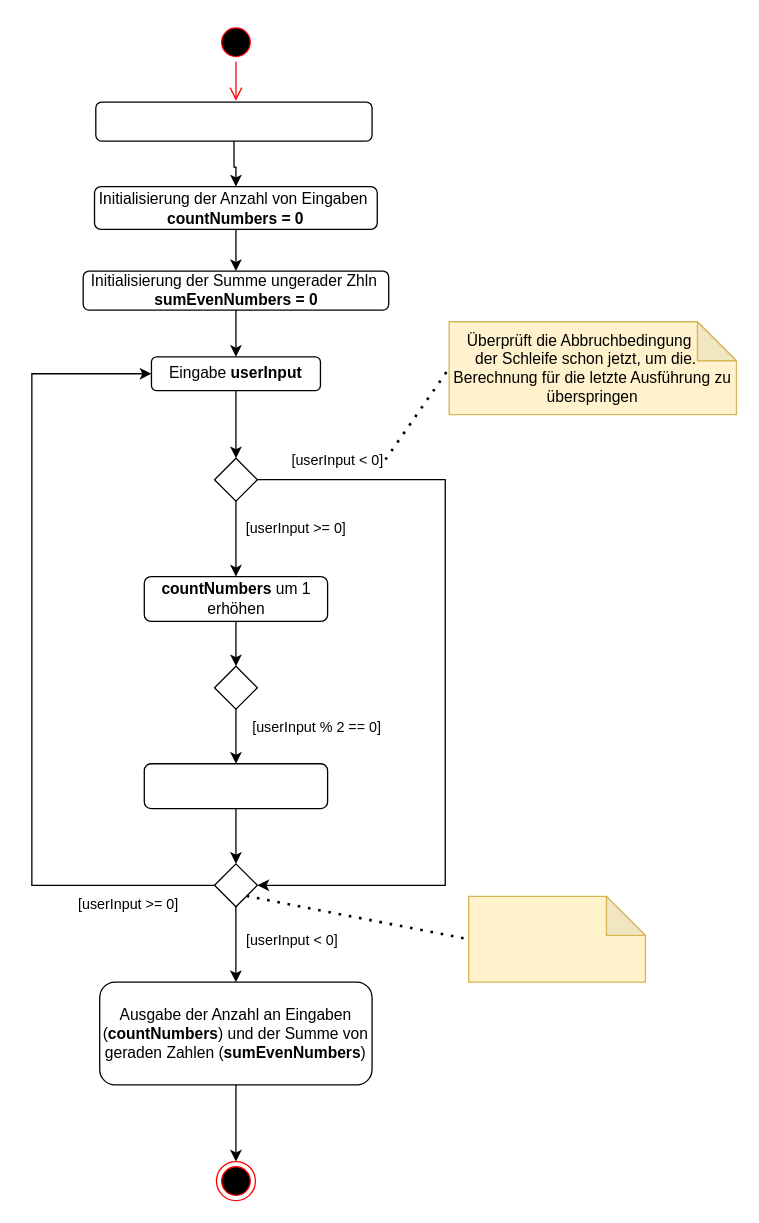
The diagram is 759 pixels wide and 1223 high, and some of its shapes have lost their labels. The shapes that lost their labels are listed below. From the top down, each one's box as (x1, y1, x2, y2) in pixels, then its label:
(95, 101, 372, 141): Initialisierung der Benutzereingabe userInput = 0
(143, 762, 328, 809): sumEvenNumbers um userInput erhöhen
(467, 895, 645, 982): Bedingung, fußgesteuerte Schleife
